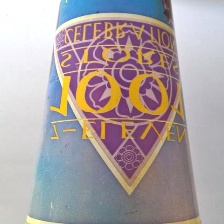glass: (20, 0, 215, 224)
